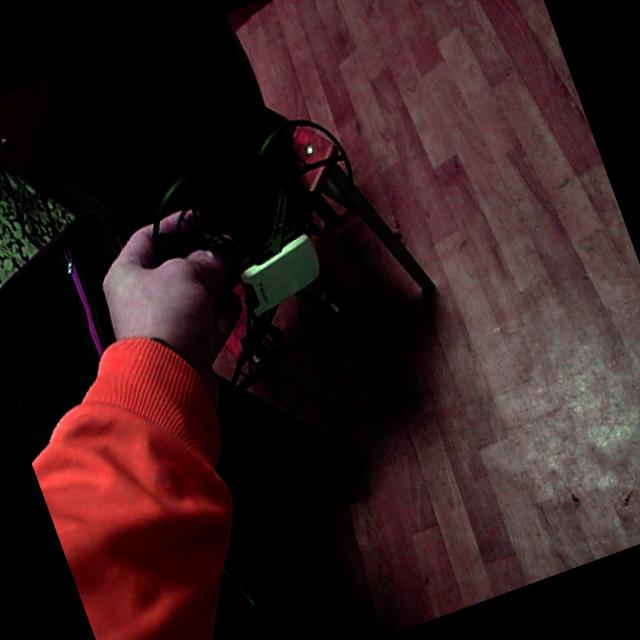drone: (113, 96, 434, 458)
